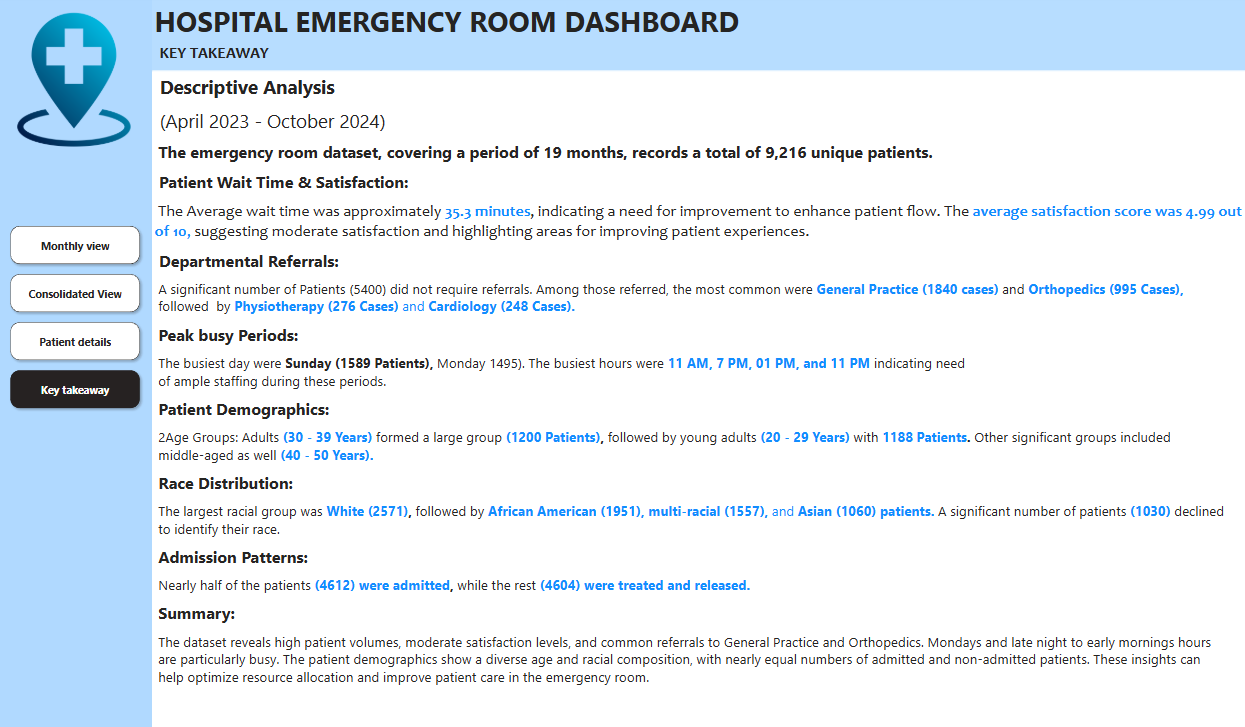

The page's visual inventory and layout, read from the dashboard file:
{"tool":"powerbi","page":{"name":"Key takeaway","canvas":[2500,1470],"ordinal":3},"visuals":[{"type":"shape","box":[0,0,310,1470],"z":0},{"type":"shape","box":[310,0,2190,142.5],"z":1000},{"type":"textbox","box":[309.1,0,1243.6,92.7],"z":2000},{"type":"textbox","box":[285,72.5,297.5,72.5],"z":3000},{"type":"textbox","box":[332.9,161.7,249.7,66.6],"z":4000},{"type":"image","box":[12.5,22.5,282.5,277.5],"z":5000},{"type":"textbox","box":[310,145,2190,1325],"z":6000},{"type":"pageNavigator","box":[17.5,445,277.5,385],"z":7000}]}

Visuals, with their boxes in screenshot pixels (x1, y1, x2, y2), scaled from the page's 2500x1470 canvas onto the 1245x727 screenshot:
shape: (left=0, top=0, right=154, bottom=726)
shape: (left=154, top=0, right=1244, bottom=70)
textbox: (left=154, top=0, right=773, bottom=46)
textbox: (left=142, top=36, right=290, bottom=72)
textbox: (left=166, top=80, right=290, bottom=113)
image: (left=6, top=11, right=147, bottom=148)
textbox: (left=154, top=72, right=1244, bottom=726)
pageNavigator: (left=9, top=220, right=147, bottom=410)
